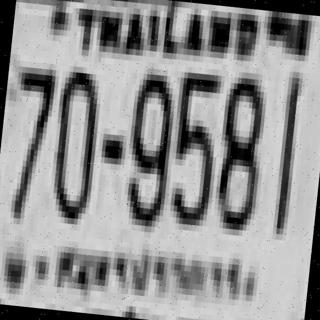N00: (50, 62, 102, 216)
N01: (269, 71, 300, 235)
N05: (166, 66, 222, 226)
N07: (4, 61, 56, 220)
N08: (212, 71, 266, 231)
N09: (122, 67, 178, 222)
